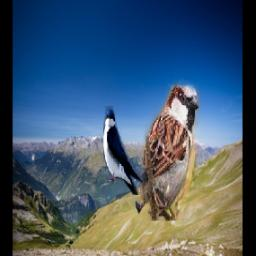Sparrow: (139, 79, 199, 222)
Swallow: (103, 107, 143, 196)
